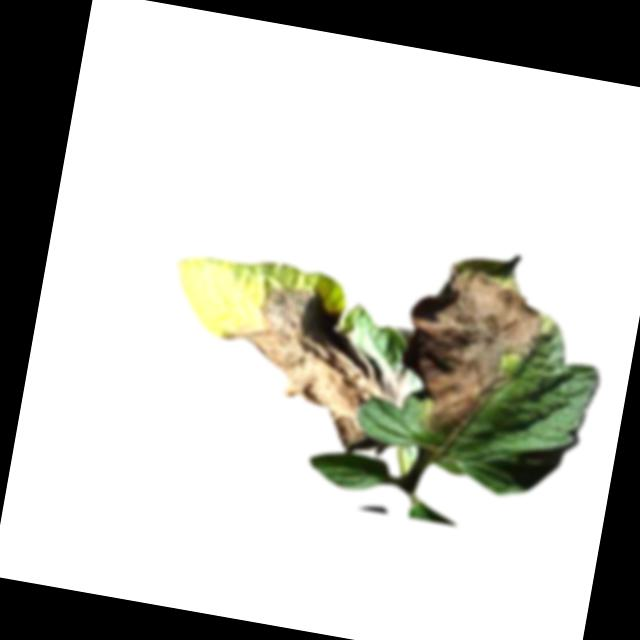Late_blight: (202, 271, 425, 461), (389, 236, 558, 451)
